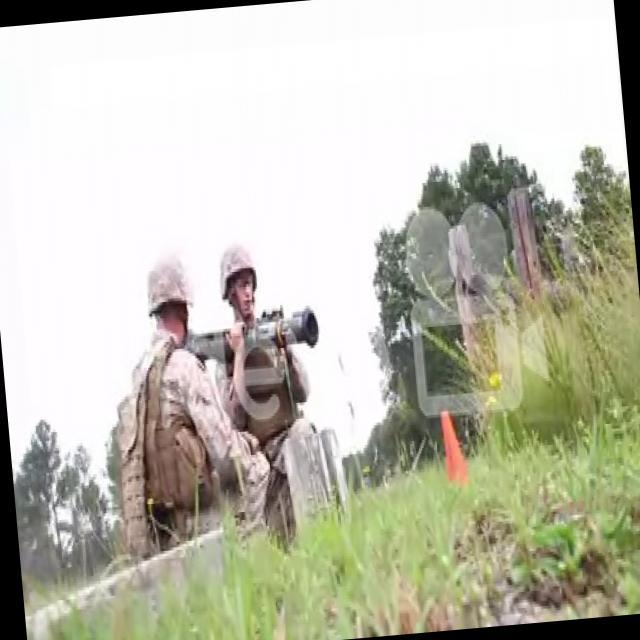rocket: (186, 307, 318, 361)
